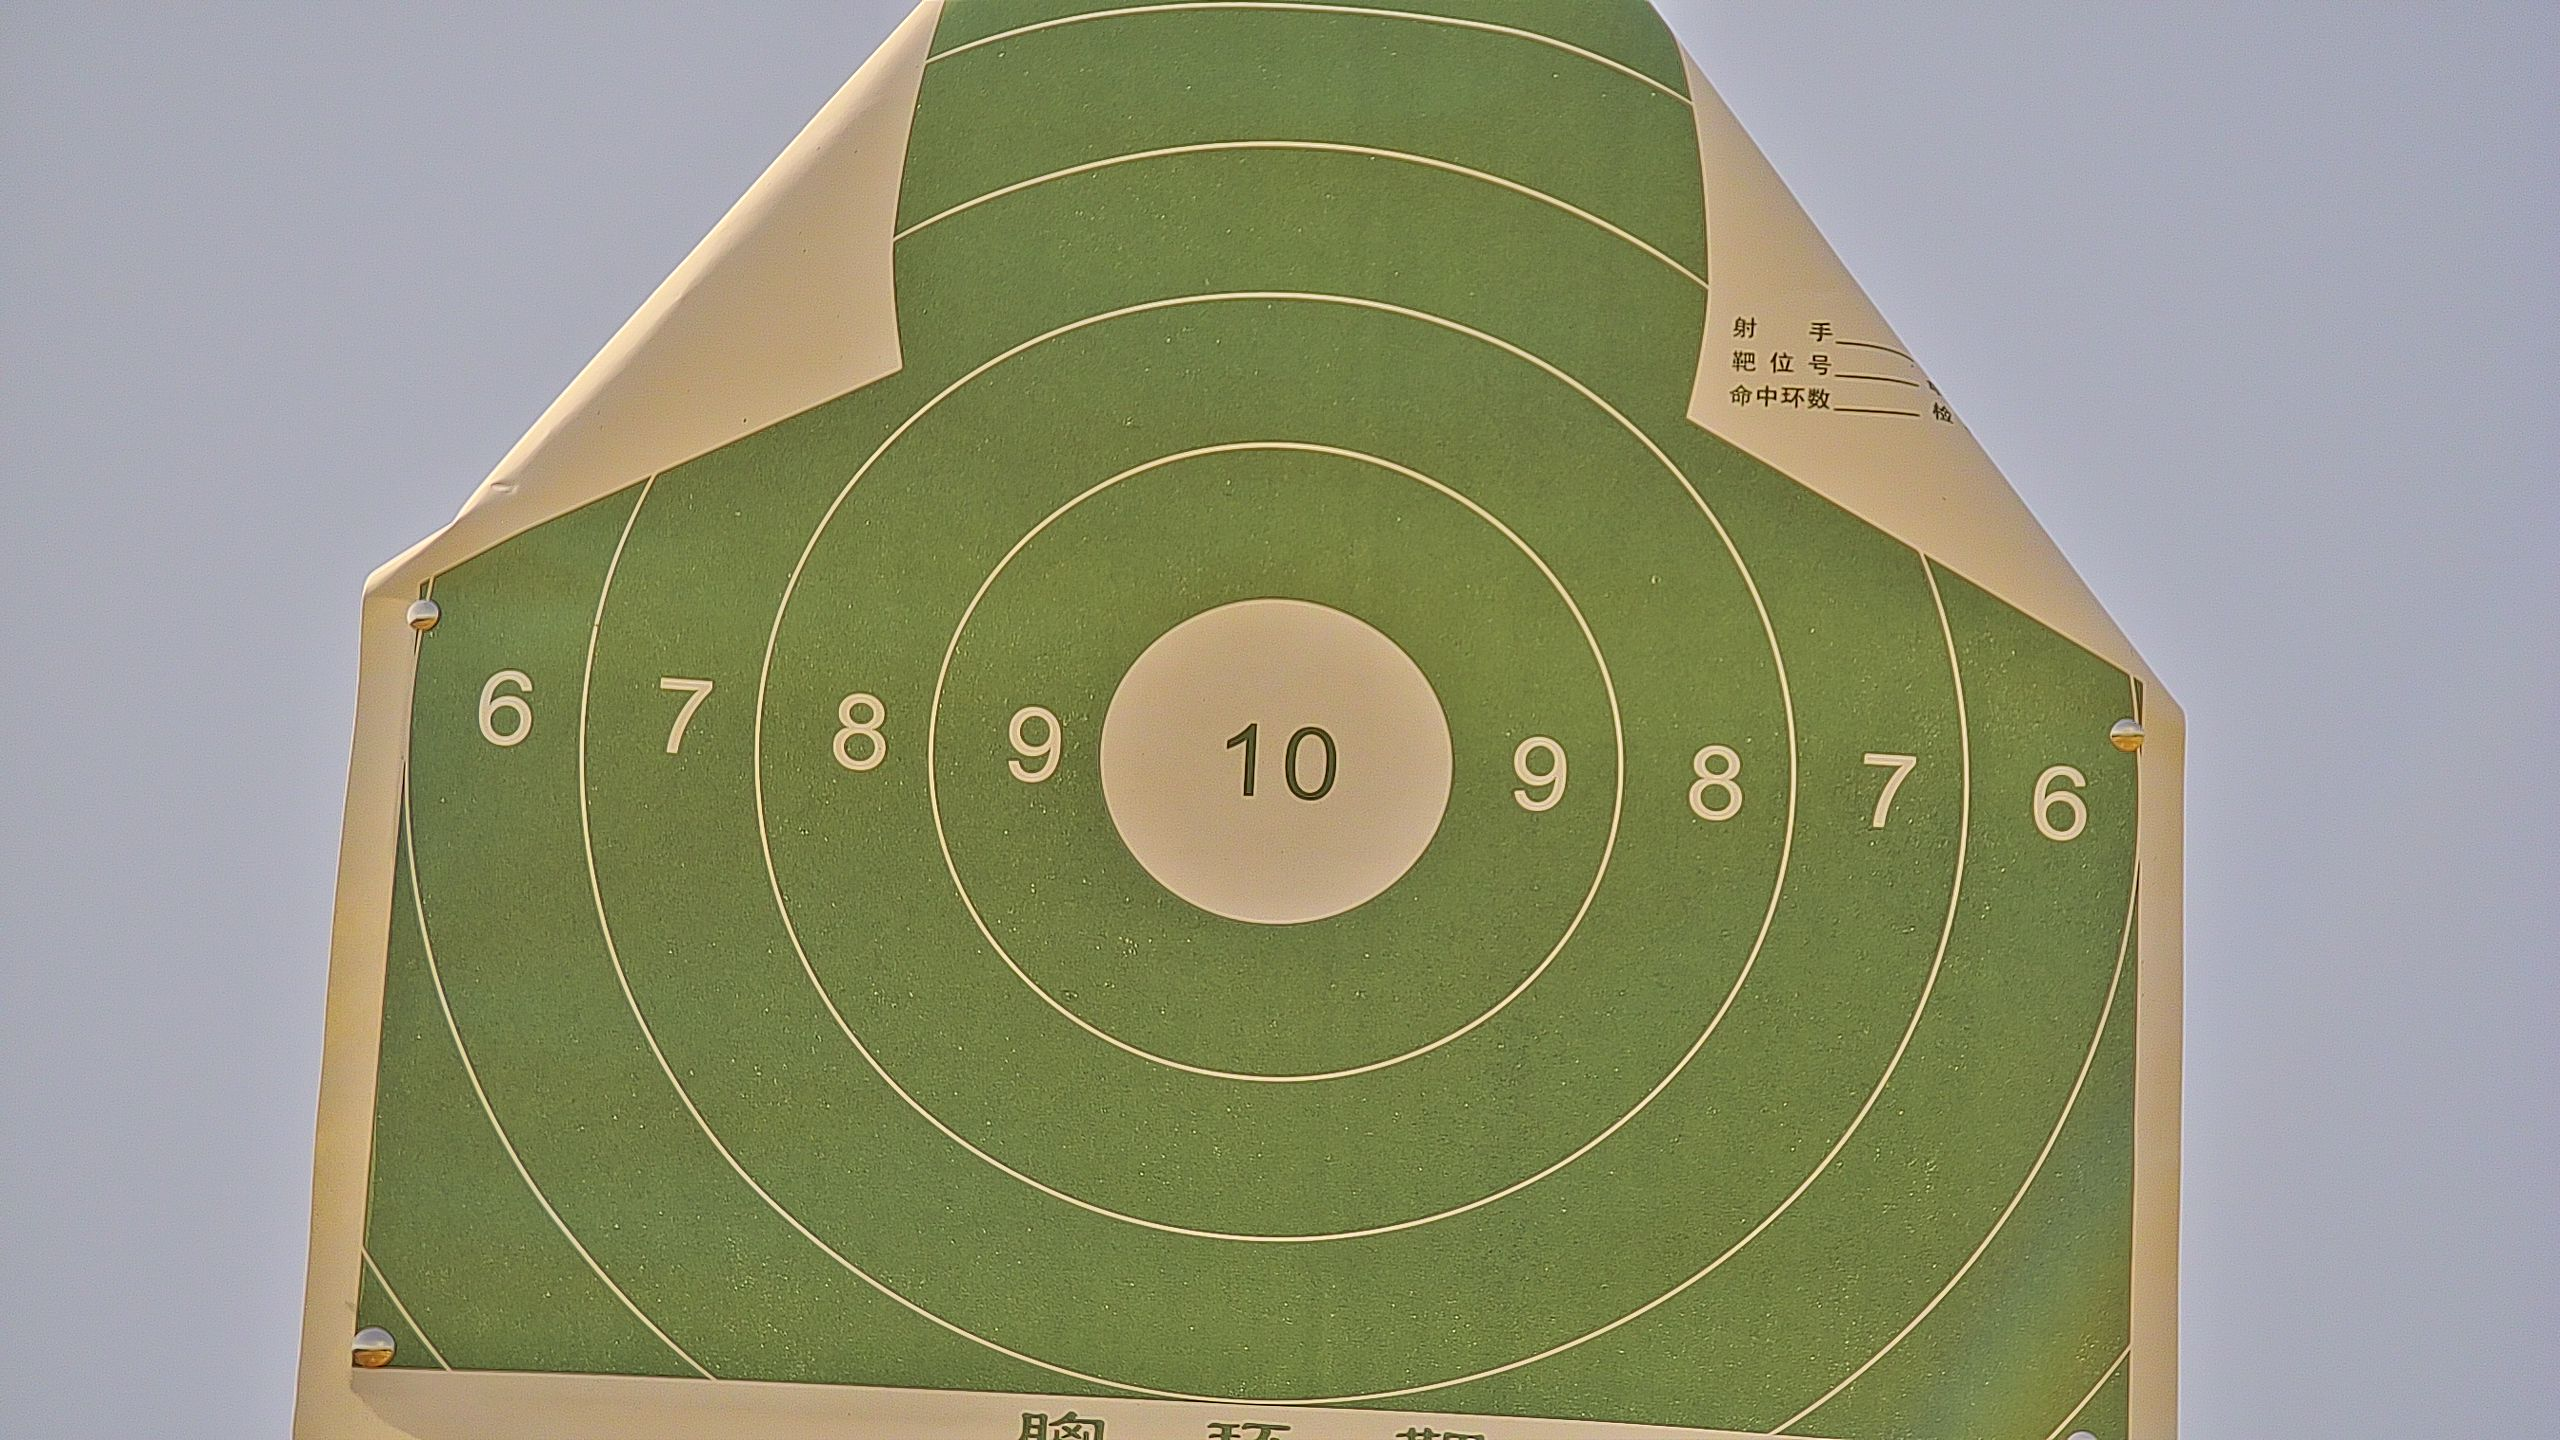kernel: (1271, 756, 1273, 761)
target: (359, 2, 2147, 1440)
ten: (1097, 600, 1454, 928)
